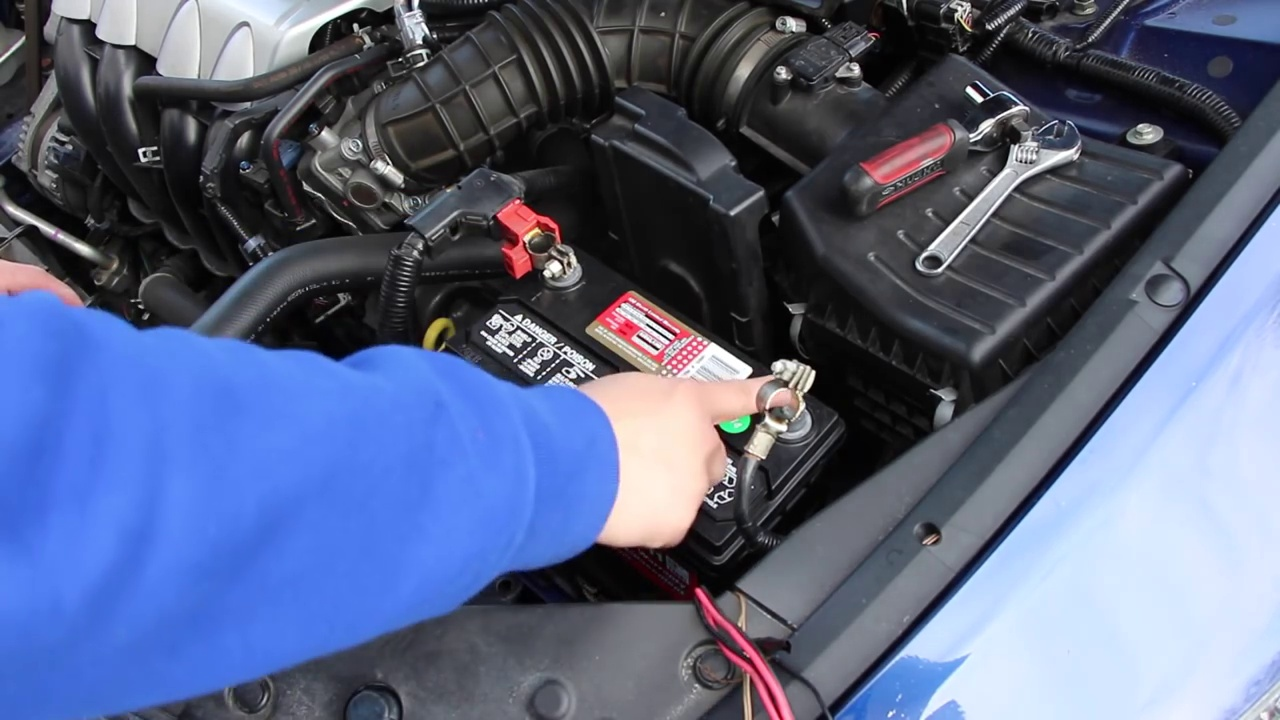battery: (437, 238, 834, 568)
neg_disconnected: (725, 343, 827, 469)
neg_touched: (630, 351, 809, 495)
pos_connected: (475, 182, 580, 295)
